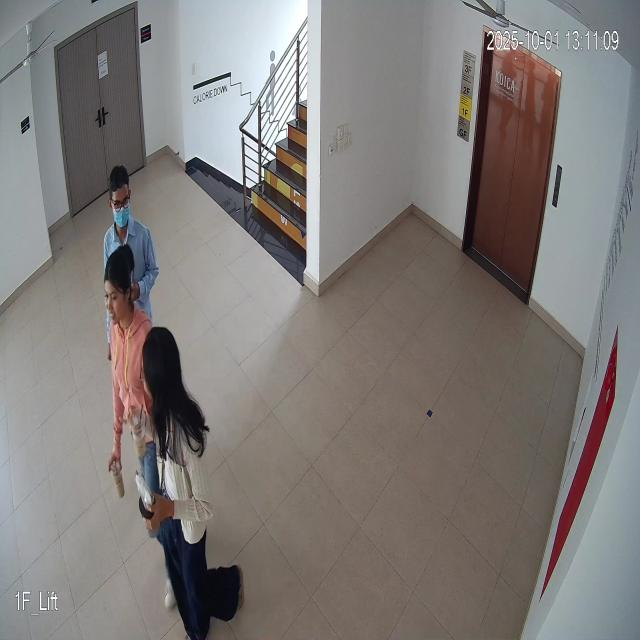face: (101, 240, 140, 331)
